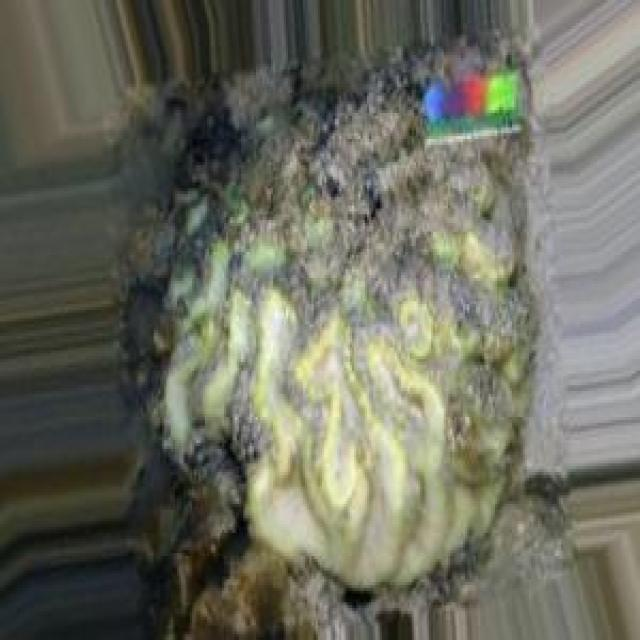Bleached: (166, 59, 531, 591)
